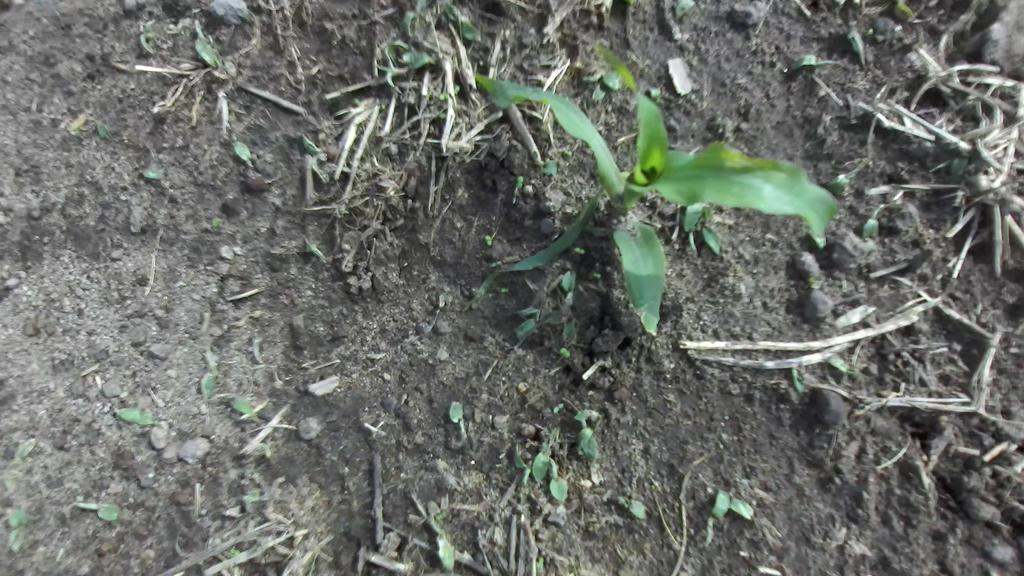BroWeed: (716, 492, 787, 555), (818, 152, 882, 203), (208, 385, 270, 426), (296, 128, 338, 186), (182, 16, 224, 73), (700, 487, 734, 551), (369, 45, 414, 92), (428, 511, 460, 574), (928, 145, 972, 189), (568, 408, 605, 457), (824, 349, 873, 386), (541, 288, 584, 330), (690, 214, 731, 258), (528, 423, 557, 484), (0, 434, 41, 475), (504, 438, 536, 486), (675, 197, 715, 234), (69, 498, 121, 526), (0, 508, 30, 554), (573, 419, 603, 465), (379, 31, 417, 67), (858, 198, 887, 244), (197, 349, 221, 404), (511, 302, 544, 342), (112, 400, 157, 429), (226, 130, 258, 170), (678, 208, 703, 259), (613, 491, 650, 524), (833, 302, 878, 329), (136, 534, 168, 571), (446, 398, 469, 448), (270, 237, 324, 258), (845, 28, 872, 69), (790, 51, 843, 71), (547, 456, 569, 503), (576, 56, 608, 88), (963, 166, 998, 195), (398, 47, 438, 70), (785, 365, 812, 397), (584, 75, 612, 104), (798, 269, 825, 294), (138, 24, 158, 57), (897, 222, 924, 246), (559, 317, 580, 347), (423, 495, 445, 521), (808, 225, 829, 252), (535, 157, 559, 177), (251, 335, 265, 369), (624, 496, 651, 513), (573, 408, 601, 424), (142, 161, 164, 181), (601, 69, 620, 92), (242, 485, 262, 506), (675, 0, 696, 20), (560, 269, 577, 292), (320, 161, 350, 174), (645, 85, 663, 105), (95, 118, 112, 139), (0, 468, 26, 481), (1, 479, 16, 501), (549, 400, 568, 416), (0, 505, 13, 525), (434, 508, 450, 524), (557, 345, 574, 359), (514, 173, 526, 190), (864, 25, 877, 39), (211, 218, 224, 231), (590, 269, 603, 282), (536, 555, 544, 576), (364, 352, 385, 360), (228, 545, 241, 557), (572, 246, 587, 256), (351, 95, 363, 107), (432, 110, 446, 119), (452, 84, 462, 96), (381, 97, 390, 110), (484, 233, 493, 246), (561, 152, 573, 161), (438, 92, 449, 100), (875, 35, 884, 43), (500, 287, 509, 294)
Maize: (435, 28, 863, 365)
